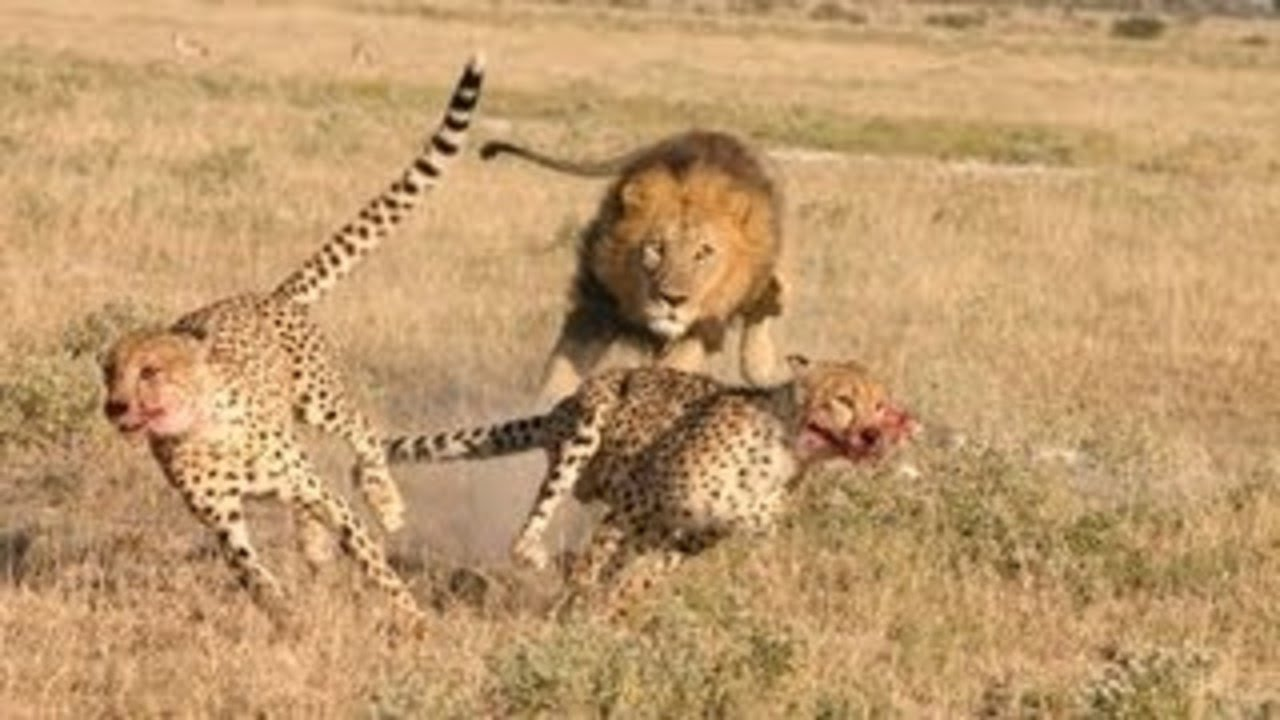Cheetah: (100, 56, 488, 628), (368, 354, 908, 604)
lion: (480, 122, 788, 412)
